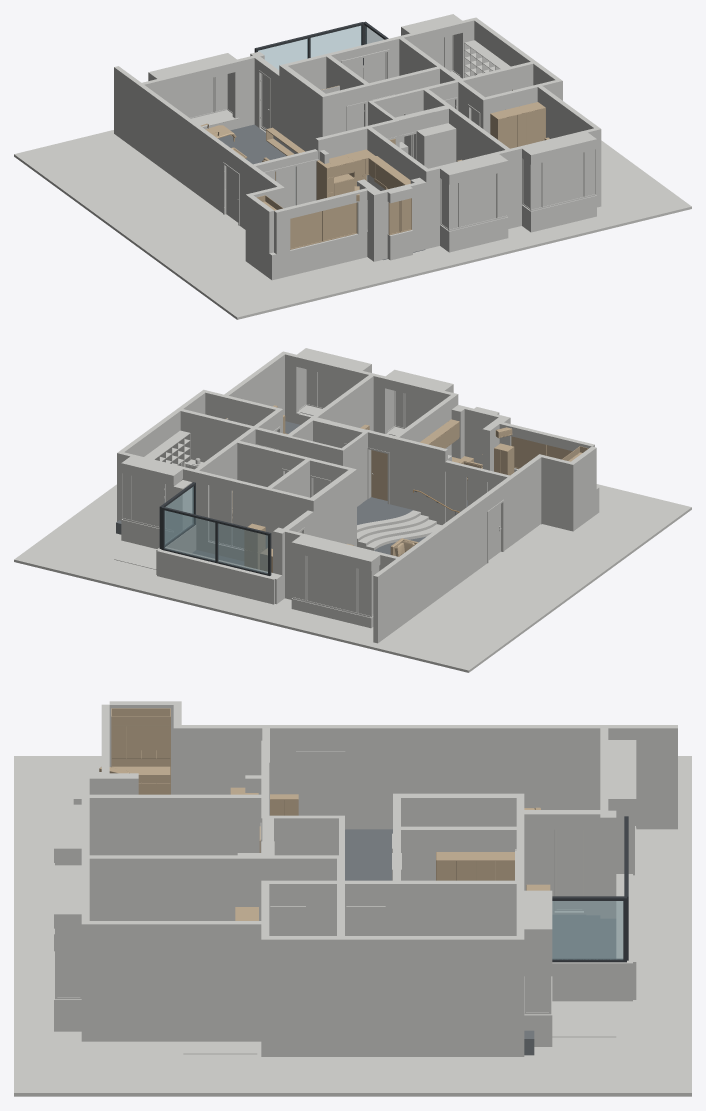
The model's file is interaction_proxy.glb.
3 views of the same model, one above another, from view 1: azimuth 30°, elevation 25°; view 2: azimuth 150°, elevation 25°; view 3: azimuth 270°, elevation 25° (orthographic). The views are drawn at different scales.
Visible parts, largest first — view 1: SITE_GROUND.001, VIEW_WALL_W_wall_md_0006.001, VIEW_WALL_LIVING_FIX_GUEST_BATH_FULL_WALL.001, VIEW_WALL_W_wall_md_0042.001, VIEW_WALL_W_wall_md_0035.001, V4_W-MB-S_FRONT_GLASS_1.001, VIEW_WALL_W_wall_md_0034.001, V4_W-SMB-S_FRONT_GLASS_1.001, VIEW_WALL_W_wall_md_0007.001, VIEW_WALL_W_wall_md_0021.001, VIEW_WALL_W_wall_md_0030.001, VIEW_WALL_W_wall_md_0060.001 (+46 smaller); view 2: SITE_GROUND.001, VIEW_WALL_W_wall_md_0006.001, VIEW_WALL_W_wall_md_0062.001, VIEW_WALL_W_wall_md_0044.001, VIEW_WALL_W_wall_md_0005.001, VIEW_WALL_W_wall_md_0055.001, VIEW_WALL_W_wall_md_0043.001, VIEW_WALL_LIVING_FIX_GUEST_BATH_FULL_WALL.001, LIVING_FIX_BAY_FRONT_GLASS_1.001, VIEW_WALL_W_wall_md_0049.001, NORTH_BALCONY_GLASS_NORTH_B.001, VIEW_WALL_W_wall_md_0007.001 (+54 smaller); view 3: SITE_GROUND.001, VIEW_WALL_W_wall_md_0030.001, VIEW_WALL_W_wall_md_0033.001, VIEW_WALL_W_wall_md_0006.001, VIEW_WALL_W_wall_md_0021.001, VIEW_WALL_W_wall_md_0015.001, VIEW_WALL_W_wall_md_0032.001, VIEW_WALL_W_wall_md_0005.001, VIEW_WALL_W_wall_md_0025.001, FLOOR_LOWER.001, VIEW_WALL_W_wall_md_0007.001, NORTH_BALCONY_GLASS_EAST.001 (+38 smaller).
Boxes of the visible parts, x1,y1,x2,y2 form: SITE_GROUND.001: (14,128,691,319); VIEW_WALL_W_wall_md_0006.001: (139,85,227,212); VIEW_WALL_LIVING_FIX_GUEST_BATH_FULL_WALL.001: (282,66,325,153); VIEW_WALL_W_wall_md_0042.001: (276,232,367,278); VIEW_WALL_W_wall_md_0035.001: (533,139,594,231); V4_W-MB-S_FRONT_GLASS_1.001: (543,152,583,206); VIEW_WALL_W_wall_md_0034.001: (451,161,505,251); V4_W-SMB-S_FRONT_GLASS_1.001: (460,174,496,226); VIEW_WALL_W_wall_md_0007.001: (114,66,141,150); VIEW_WALL_W_wall_md_0021.001: (449,107,509,161); VIEW_WALL_W_wall_md_0030.001: (537,86,598,138); VIEW_WALL_W_wall_md_0060.001: (232,55,254,128); SITE_GROUND.001: (14,484,691,672); VIEW_WALL_W_wall_md_0006.001: (399,495,487,624); VIEW_WALL_W_wall_md_0062.001: (157,547,277,604); VIEW_WALL_W_wall_md_0044.001: (396,437,441,524); VIEW_WALL_W_wall_md_0005.001: (499,456,541,550); VIEW_WALL_W_wall_md_0055.001: (196,470,266,561); VIEW_WALL_W_wall_md_0043.001: (541,455,575,531); VIEW_WALL_LIVING_FIX_GUEST_BATH_FULL_WALL.001: (311,470,354,545); LIVING_FIX_BAY_FRONT_GLASS_1.001: (307,556,356,612); VIEW_WALL_W_wall_md_0049.001: (180,409,253,462); NORTH_BALCONY_GLASS_NORTH_B.001: (164,510,215,560); VIEW_WALL_W_wall_md_0007.001: (373,559,400,643); SITE_GROUND.001: (14,756,691,1096); VIEW_WALL_W_wall_md_0030.001: (89,921,261,1041); VIEW_WALL_W_wall_md_0033.001: (345,936,516,1056); VIEW_WALL_W_wall_md_0006.001: (345,725,600,829); VIEW_WALL_W_wall_md_0021.001: (89,855,261,920); VIEW_WALL_W_wall_md_0015.001: (89,794,261,855); VIEW_WALL_W_wall_md_0032.001: (261,936,336,1056); VIEW_WALL_W_wall_md_0005.001: (181,725,296,794); VIEW_WALL_W_wall_md_0025.001: (401,880,516,935); FLOOR_LOWER.001: (345,829,616,958); VIEW_WALL_W_wall_md_0007.001: (608,725,677,829); NORTH_BALCONY_GLASS_EAST.001: (552,901,623,959).
Bounding box in the file's own units: 20 × 3.37 × 17.
